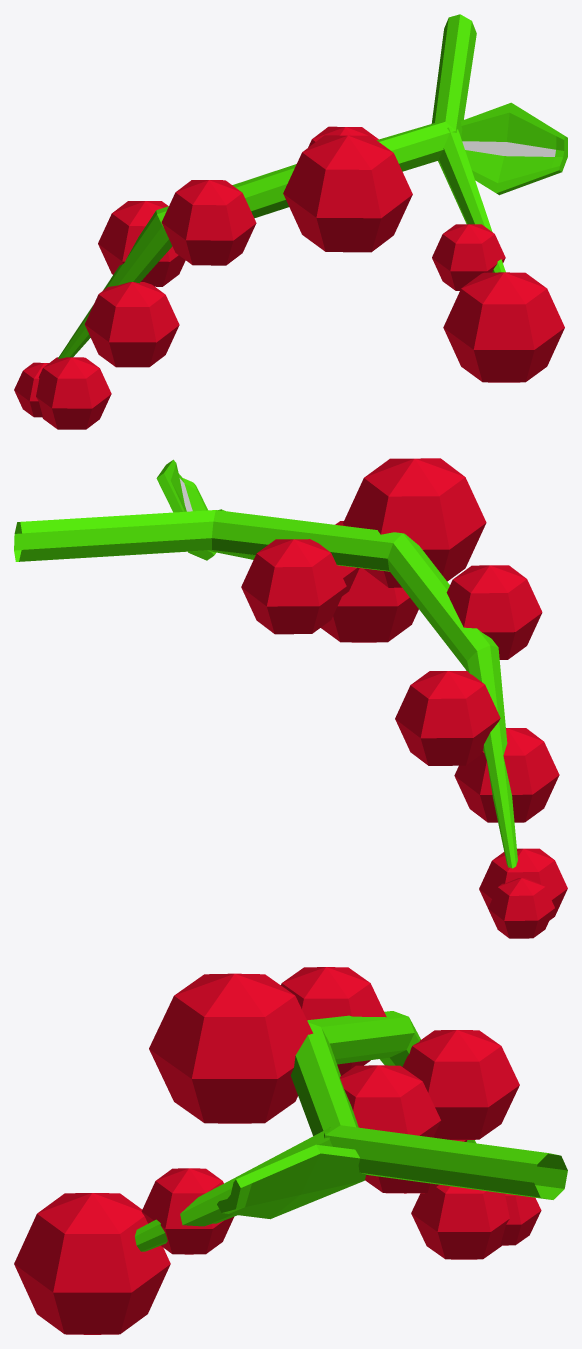
Rendered from bayas.fbx.
3 renders of one model, top to bottom at view 1: azimuth 30°, elevation 25°; view 2: azimuth 150°, elevation 25°; view 3: azimuth 270°, elevation 25°, orthographic. The views are drawn at different scales.
Visible parts, largest first — view 1: Plane, Sphere.008, Sphere.009, Cube.016, Sphere.004, Sphere.011, Sphere.002, Sphere.001, Sphere.006, Sphere.010; view 2: Plane, Sphere.008, Sphere.005, Sphere.006, Sphere.004, Sphere.011, Sphere.009, Sphere.010, Sphere.002, Cube.016; view 3: Plane, Sphere.008, Sphere.009, Sphere.006, Cube.016, Sphere.002, Sphere.005, Sphere.001, Sphere.004, Sphere.010, Sphere.011.
Boxes of the visible parts, bbox=[...] form: Plane: bbox=[58, 14, 505, 358]; Sphere.008: bbox=[283, 135, 412, 252]; Sphere.009: bbox=[443, 272, 564, 382]; Cube.016: bbox=[460, 102, 567, 195]; Sphere.004: bbox=[161, 180, 256, 265]; Sphere.011: bbox=[84, 282, 179, 367]; Sphere.002: bbox=[36, 357, 111, 429]; Sphere.001: bbox=[432, 224, 505, 290]; Sphere.006: bbox=[98, 201, 185, 286]; Sphere.010: bbox=[14, 362, 48, 417]; Plane: bbox=[14, 509, 517, 868]; Sphere.008: bbox=[343, 458, 486, 587]; Sphere.005: bbox=[241, 539, 346, 634]; Sphere.006: bbox=[395, 671, 500, 765]; Sphere.004: bbox=[446, 565, 542, 659]; Sphere.011: bbox=[454, 728, 559, 822]; Sphere.009: bbox=[321, 521, 418, 642]; Sphere.010: bbox=[488, 878, 554, 938]; Sphere.002: bbox=[479, 848, 567, 920]; Cube.016: bbox=[156, 459, 216, 560]; Plane: bbox=[134, 1011, 567, 1251]; Sphere.008: bbox=[149, 973, 313, 1123]; Sphere.009: bbox=[14, 1193, 170, 1334]; Sphere.006: bbox=[402, 1030, 519, 1139]; Cube.016: bbox=[217, 1144, 365, 1219]; Sphere.002: bbox=[411, 1184, 509, 1259]; Sphere.005: bbox=[340, 1065, 440, 1175]; Sphere.001: bbox=[141, 1168, 233, 1254]; Sphere.004: bbox=[281, 967, 386, 1075]; Sphere.010: bbox=[500, 1194, 541, 1245]; Sphere.011: bbox=[365, 1140, 467, 1193].
Size of the model in its own units: 219 by 140 by 174.
